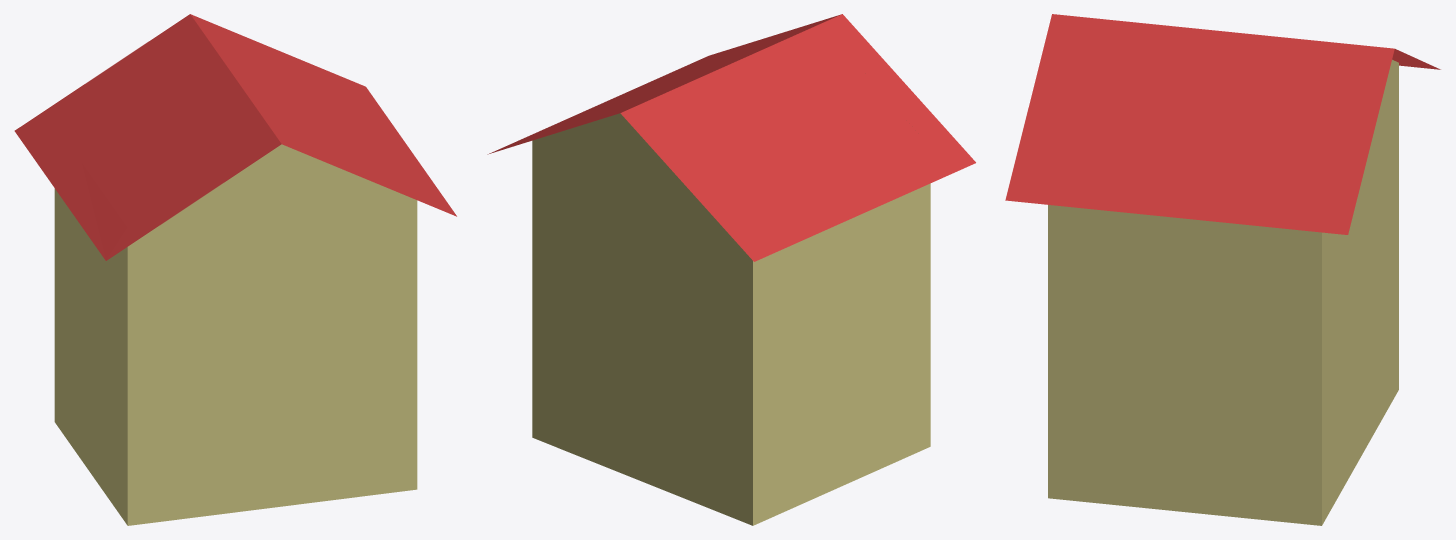
3 renders of one model, left to right at view 1: azimuth 30°, elevation 25°; view 2: azimuth 150°, elevation 25°; view 3: azimuth 270°, elevation 25°, orthographic. The views are drawn at different scales.
Parts seen in each view (by area): view 1: group_5, group_3, group_4; view 2: group_5, group_3, group_4; view 3: group_5, group_3, group_4.
Boxes of the visible parts, x1=… form: group_5: x1=54, y1=144, x2=417, y2=525; group_3: x1=14, y1=14, x2=456, y2=260; group_4: x1=81, y1=14, x2=332, y2=260; group_5: x1=532, y1=113, x2=930, y2=525; group_3: x1=487, y1=14, x2=975, y2=261; group_4: x1=619, y1=14, x2=975, y2=196; group_5: x1=1048, y1=59, x2=1398, y2=525; group_3: x1=1005, y1=14, x2=1394, y2=234; group_4: x1=1052, y1=14, x2=1440, y2=231.
Bounding box in the file's own units: 13.36 × 12.33 × 12.87.
